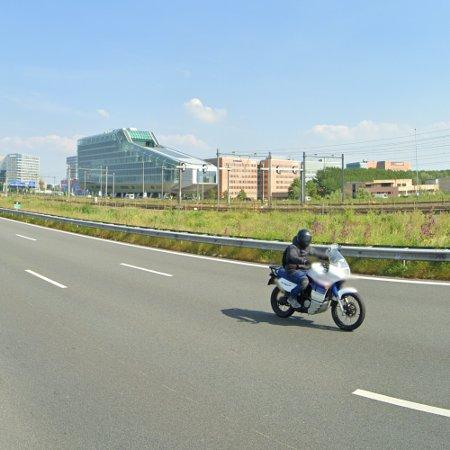motorcycles: (268, 246, 365, 333)
